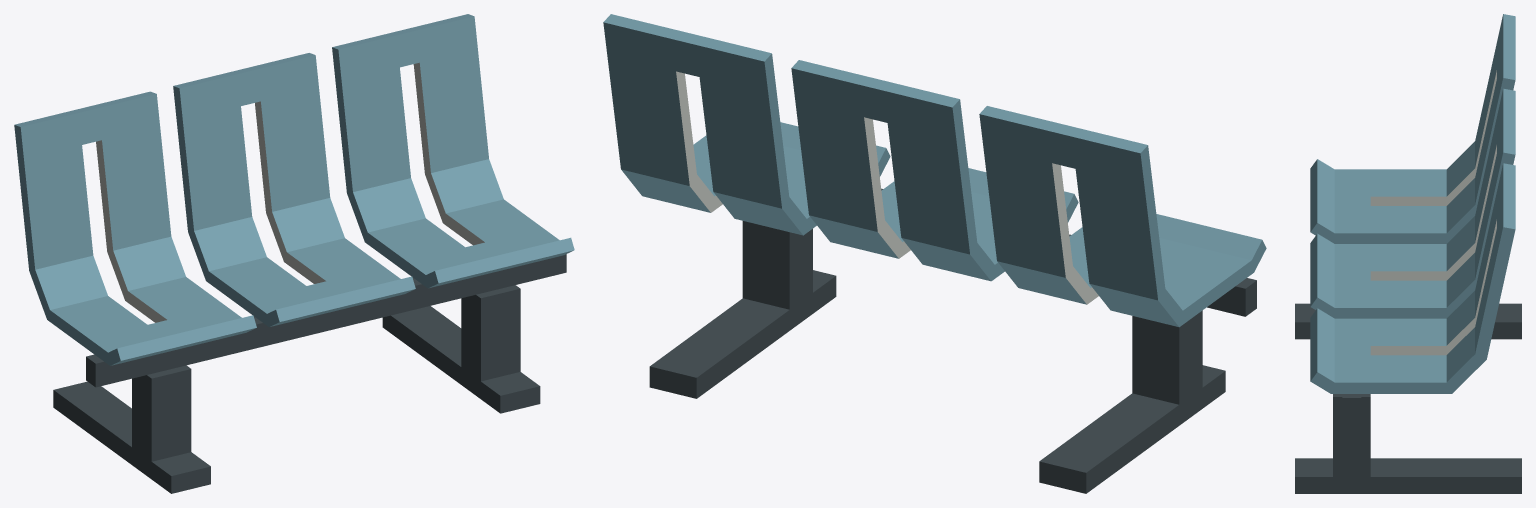
3 views of the same model, side by side, from view 1: azimuth 30°, elevation 25°; view 2: azimuth 150°, elevation 25°; view 3: azimuth 270°, elevation 25° (orthographic). The views are drawn at different scales.
Visible parts, largest first — view 1: LeftContinuousSlottedSeatBack, RightContinuousSlottedSeatBack, CentreContinuousSlottedSeatBack, LeftIntegralLongFootPedestal, RightIntegralLongFootPedestal, WholeTransverseSeatBeam; view 2: LeftContinuousSlottedSeatBack, RightContinuousSlottedSeatBack, CentreContinuousSlottedSeatBack, LeftIntegralLongFootPedestal, RightIntegralLongFootPedestal, WholeTransverseSeatBeam; view 3: RightContinuousSlottedSeatBack, LeftContinuousSlottedSeatBack, CentreContinuousSlottedSeatBack, RightIntegralLongFootPedestal, LeftIntegralLongFootPedestal, WholeTransverseSeatBeam.
Part boxes in pixels (box(x1,y1,x2,y2)): LeftContinuousSlottedSeatBack: box(14, 91, 256, 365); RightContinuousSlottedSeatBack: box(332, 14, 574, 288); CentreContinuousSlottedSeatBack: box(173, 53, 415, 326); LeftIntegralLongFootPedestal: box(53, 365, 210, 493); RightIntegralLongFootPedestal: box(382, 285, 540, 413); WholeTransverseSeatBeam: box(86, 254, 566, 387); LeftContinuousSlottedSeatBack: box(979, 106, 1266, 327); RightContinuousSlottedSeatBack: box(603, 14, 890, 235); CentreContinuousSlottedSeatBack: box(791, 60, 1078, 281); LeftIntegralLongFootPedestal: box(1039, 310, 1225, 493); RightIntegralLongFootPedestal: box(649, 221, 836, 398); WholeTransverseSeatBeam: box(881, 188, 1256, 316); RightContinuousSlottedSeatBack: box(1310, 163, 1515, 393); LeftContinuousSlottedSeatBack: box(1310, 14, 1515, 243); CentreContinuousSlottedSeatBack: box(1310, 88, 1515, 318); RightIntegralLongFootPedestal: box(1295, 394, 1521, 493); LeftIntegralLongFootPedestal: box(1295, 303, 1521, 339); WholeTransverseSeatBeam: box(1342, 394, 1361, 420).
Size of the model in its own units: 1.66 by 1 by 0.72.
